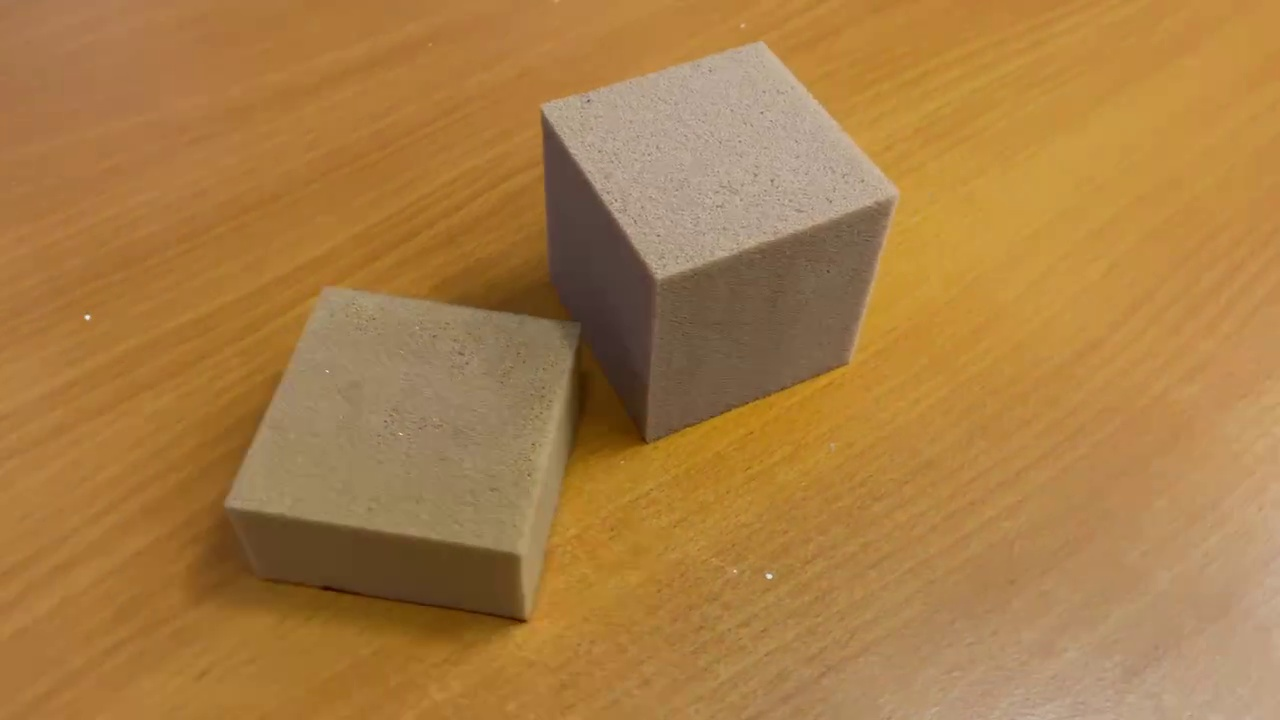Cube: (535, 36, 900, 455)
Cube_short: (217, 276, 585, 627)
